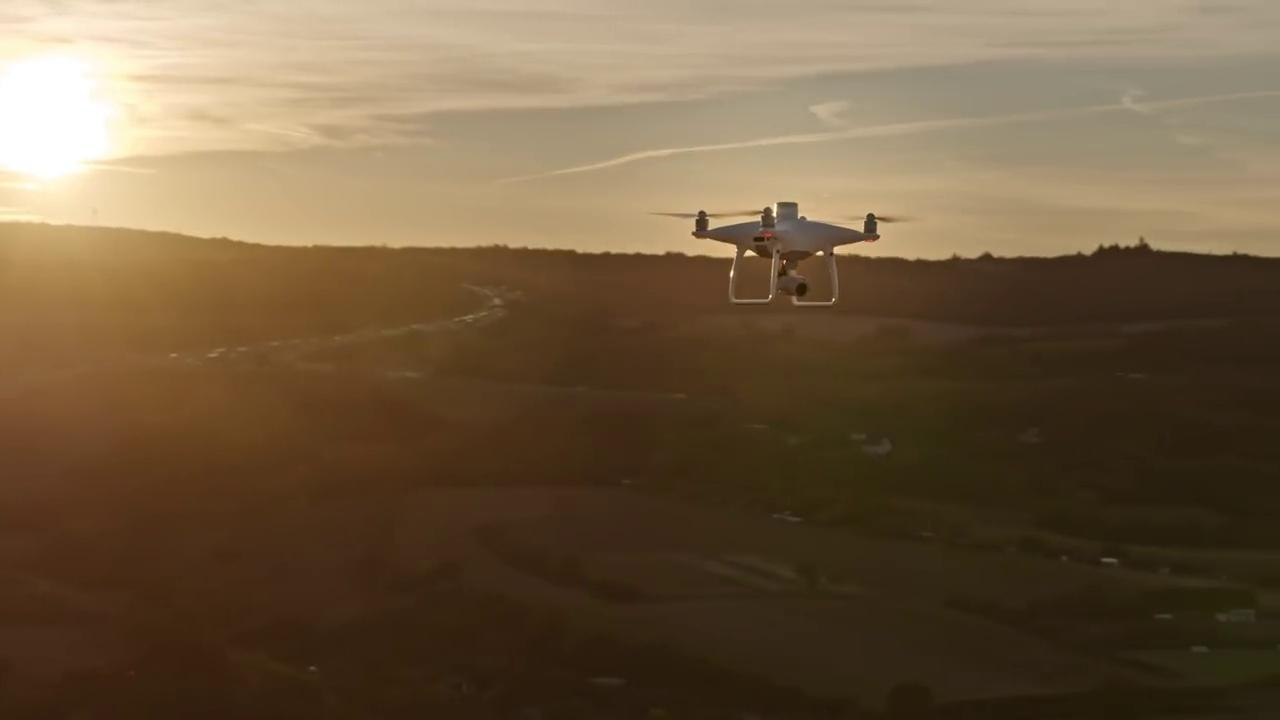drone: (642, 193, 919, 311)
